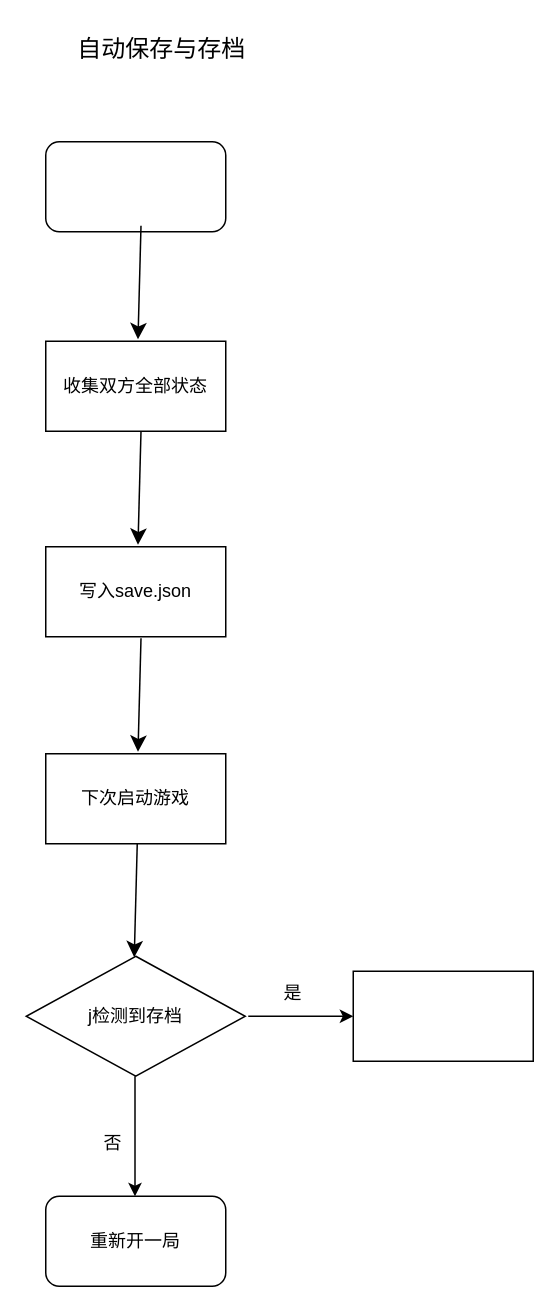
Image size: 560x1313. Some labels were removed from this diagram. Here are the shapes that lost their labels. From the top down, the centre of each, then its label:
the point at 135,186: 每周结算完成/退出游戏
the point at 442,1015: 弹窗：继续上次对局 /新开一局
